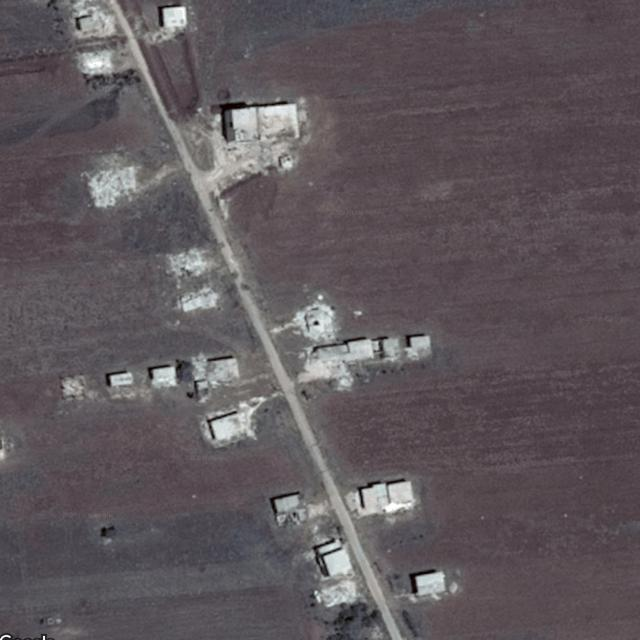damaged_building: (77, 157, 144, 210), (308, 335, 373, 385), (288, 304, 340, 339), (165, 246, 215, 276), (191, 352, 238, 382), (310, 580, 356, 608), (177, 288, 222, 313)
